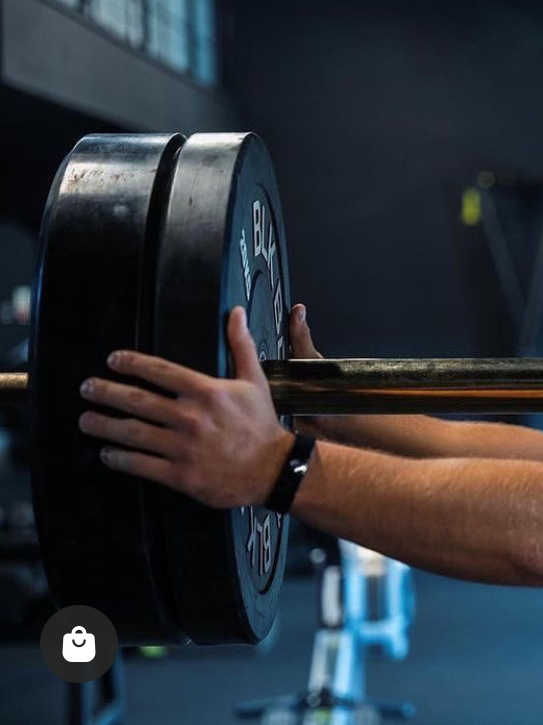weights: (26, 129, 303, 654)
